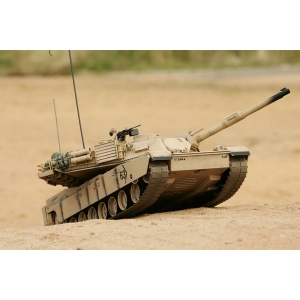Battle Tank: (36, 87, 292, 226)
